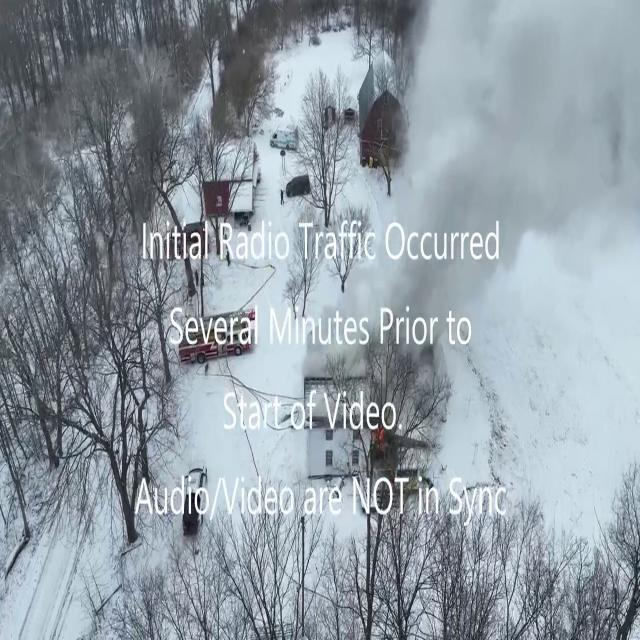Smoke: (354, 0, 640, 400)
